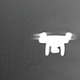plane: (31, 30, 78, 57)
